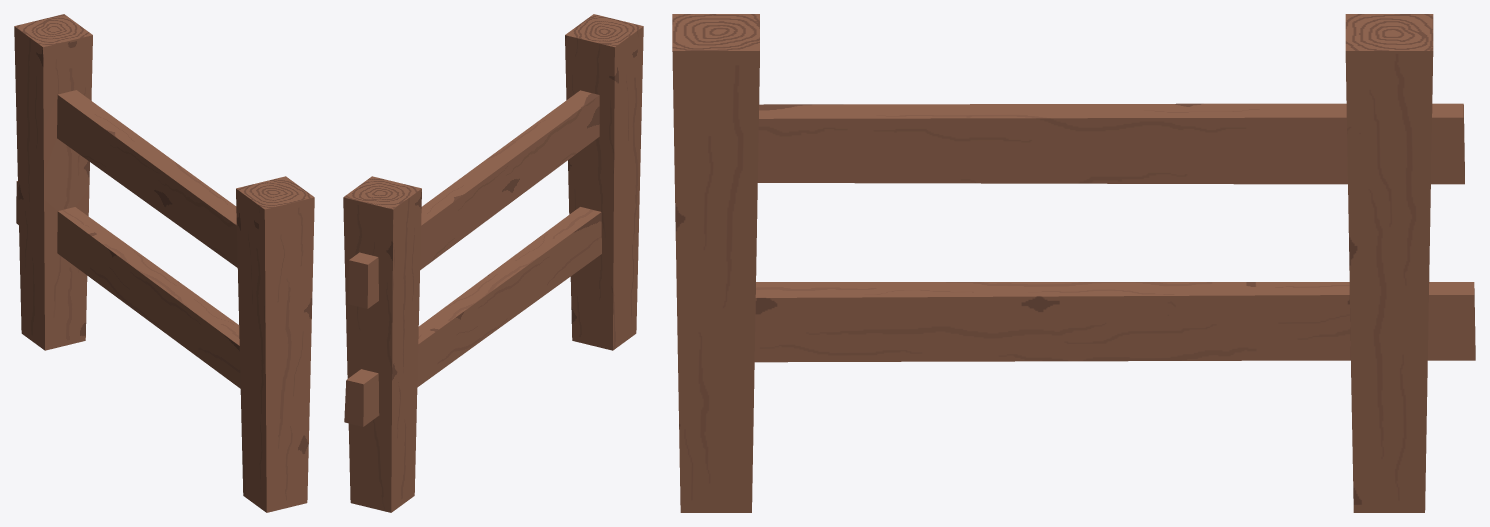
File: fixd-fence-end.fbx
3 renders of one model, left to right at view 1: azimuth 30°, elevation 25°; view 2: azimuth 150°, elevation 25°; view 3: azimuth 270°, elevation 25°, orthographic. The views are drawn at different scales.
Visible parts, largest first — view 1: Cube; view 2: Cube; view 3: Cube.
Part boxes in pixels (bbox=[...]): Cube: bbox=[14, 14, 314, 512]; Cube: bbox=[343, 14, 643, 512]; Cube: bbox=[672, 14, 1475, 512].
Size of the model in its own units: 70.42 by 413 by 645.
